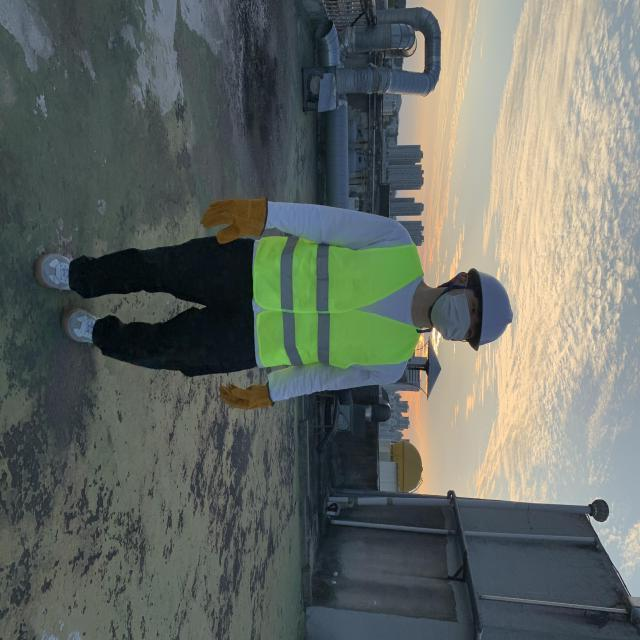gloves: (198, 188, 280, 252), (213, 374, 274, 418)
helmet: (467, 260, 524, 358)
safety_vest: (250, 236, 430, 396)
